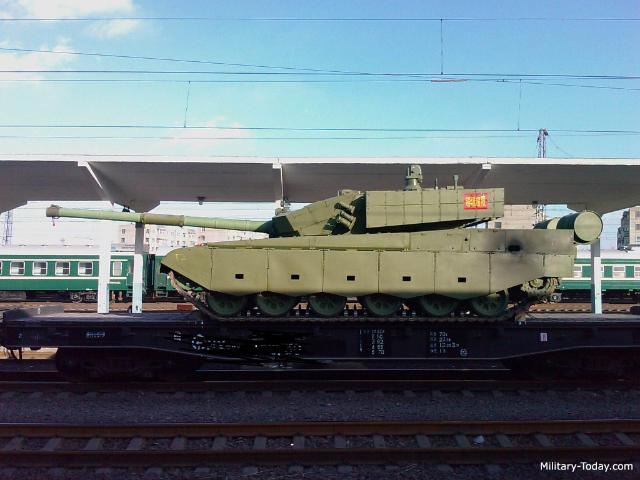tank: (164, 186, 576, 320)
